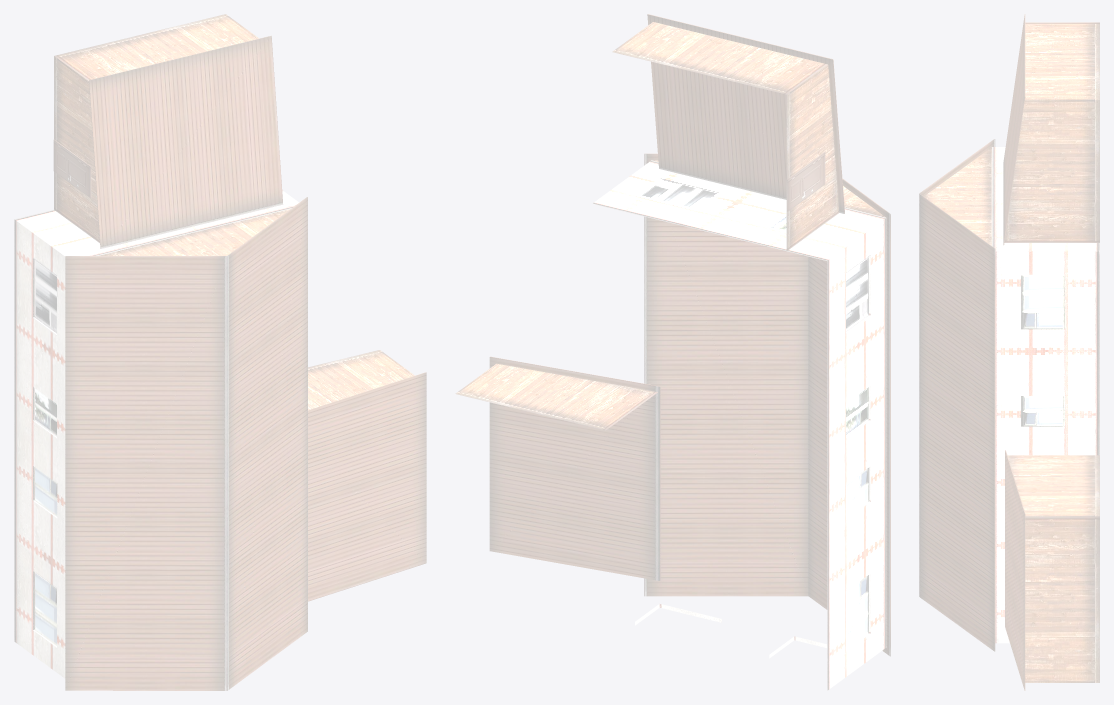
File: cottage.gltf
The picture shows the model from 3 angles, left to right: view 1: azimuth 30°, elevation 25°; view 2: azimuth 150°, elevation 25°; view 3: azimuth 270°, elevation 25°; orthographic projection. The views are drawn at different scales.
Parts seen in each view (by area): view 1: Box001; view 2: Box001; view 3: Box001.
Boxes of the visible parts, x1=… form: Box001: x1=14, y1=14, x2=426, y2=690; Box001: x1=455, y1=14, x2=890, y2=690; Box001: x1=919, y1=14, x2=1099, y2=690.
Bounding box in the file's own units: 12.1 × 18.03 × 5.41.
1 material, 1 textured.
